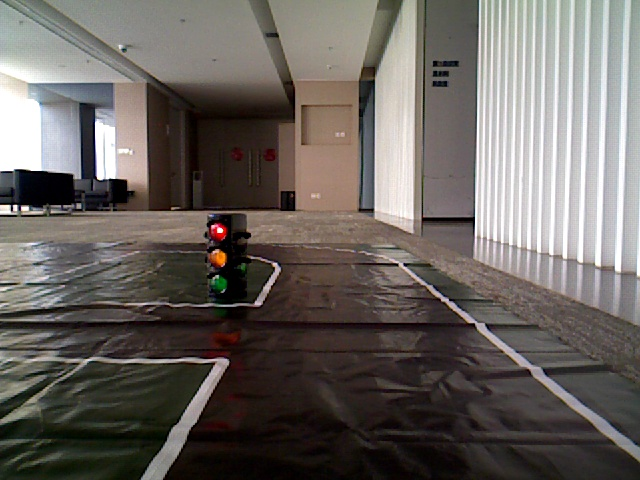red: (208, 218, 230, 293)
